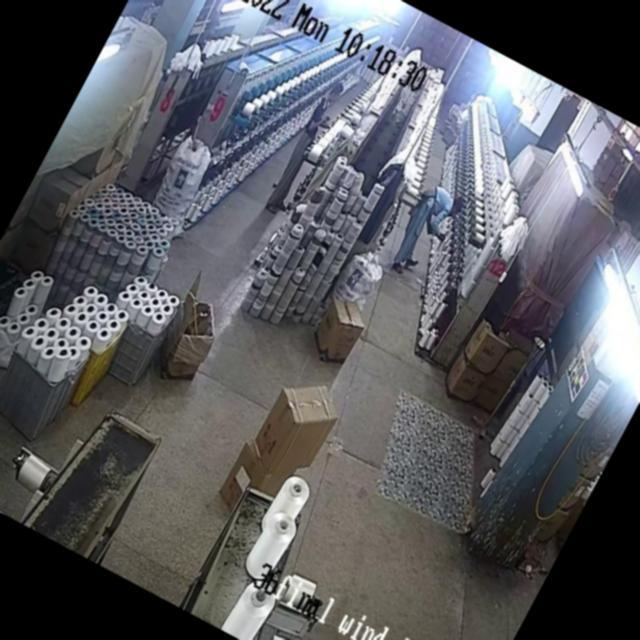person: (264, 84, 344, 215), (392, 182, 460, 274)
